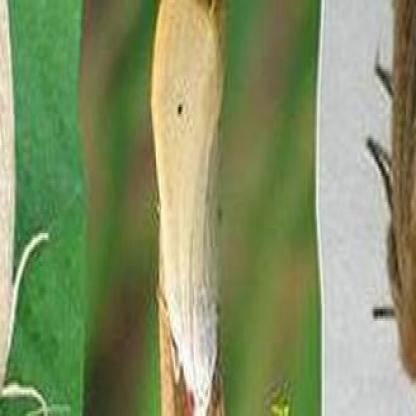stem-borer: (148, 0, 226, 416)
